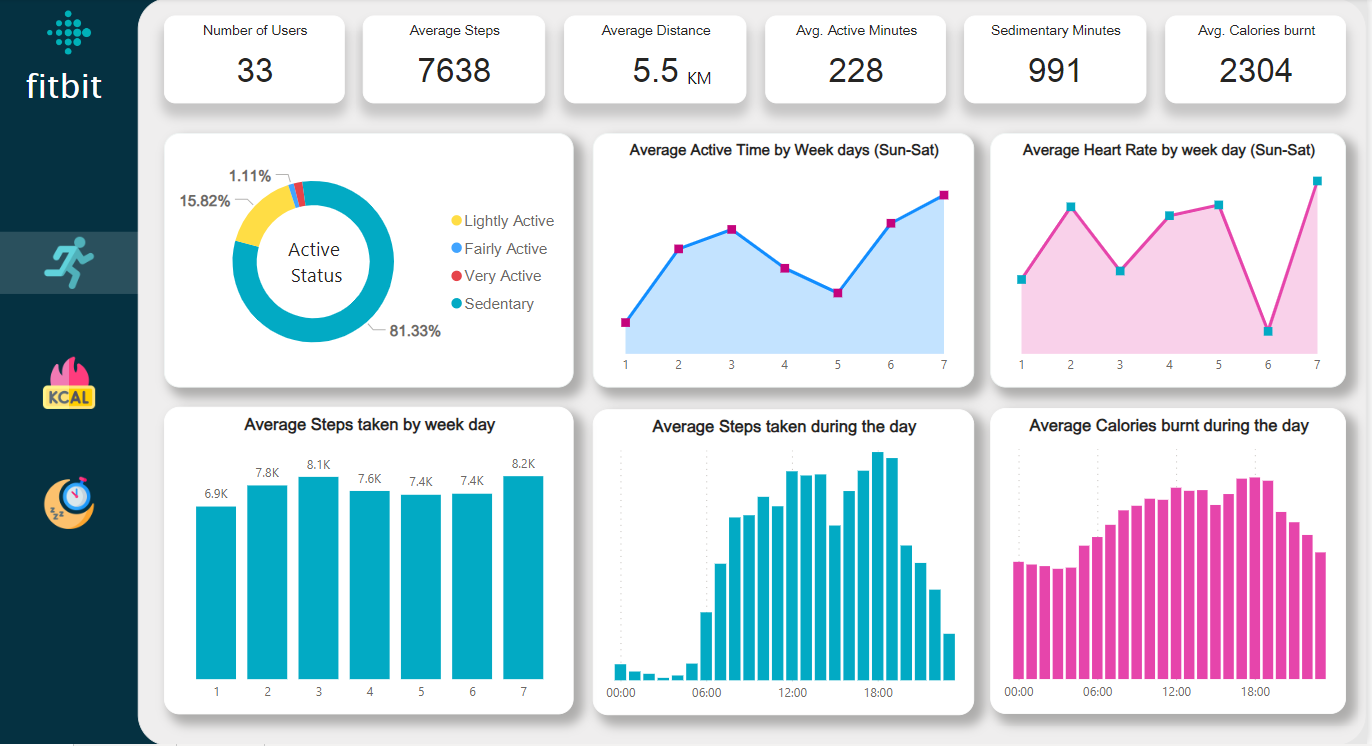

The dashboard page shown, as its layout file describes it:
{"tool":"powerbi","page":{"name":"Activity","canvas":[1320,720],"ordinal":0},"visuals":[{"type":"shape","box":[1150.9,0,169.4,720.3],"z":0},{"type":"shape","box":[133.9,0,1185.5,721.2],"z":1000},{"type":"shape","title":"Avg Calories burned","box":[1125.3,18.6,174.9,87.4],"z":2000},{"type":"shape","title":"Avg Sedimentary mins","box":[934.7,17.2,174.9,87.4],"z":3000},{"type":"shape","title":"Avg. Distance","box":[544.7,15.8,174.9,87.4],"z":4000},{"type":"shape","title":"Avg Active Mins","box":[738.3,17.2,174.9,87.4],"z":5000},{"type":"shape","title":"Avg. Steps","box":[351.2,14.3,174.9,87.4],"z":6000},{"type":"card","title":"Average Steps","fields":{"Values":["Avg(dailyActivity_merged1.TotalSteps)"]},"box":[404,33.8,121.8,67.5],"z":7000},{"type":"card","title":"Average Distance","fields":{"Values":["Avg(dailyActivity_merged1.TotalDistance)"]},"box":[582.5,33.8,127.8,67.5],"z":8000},{"type":"card","title":"Avg. Active Minutes","fields":{"Values":["Avg(dailyActivity_merged1.Total Active Minutes)"]},"box":[798.4,43.4,103.7,48.2],"z":9000},{"type":"card","title":"Sedimentary Minutes","fields":{"Values":["Avg(dailyActivity_merged1.SedentaryMinutes)"]},"box":[988.9,43.4,102.5,48.2],"z":10000},{"type":"image","box":[0,7.8,135.3,52],"z":11000},{"type":"textbox","box":[0,57.2,135.3,72.9],"z":12000},{"type":"donutChart","title":"Average Activity (Minutes)","fields":{"Y":["Sum(dailyActivity_merged1.LightlyActiveMinutes)","Sum(dailyActivity_merged1.FairlyActiveMinutes)","Sum(dailyActivity_merged1.VeryActiveMinutes)","Sum(dailyActivity_merged1.SedentaryMinutes)"]},"box":[159.2,129,395.6,246],"z":13000},{"type":"areaChart","title":"Average Active Time by Week days (Sun-Sat)","fields":{"Category":["dailyActivity_merged1.Week Day"],"Y":["Avg(dailyActivity_merged1.Total Active Minutes)"]},"box":[572.4,130.1,368.2,245.9],"z":14000},{"type":"areaChart","title":"Average Heart Rate by week day (Sun-Sat)","fields":{"Category":["heartrate_seconds_merged5.week day"],"Y":["Avg(heartrate_seconds_merged5.Value)"]},"box":[955.7,129.8,344.1,246.7],"z":15000},{"type":"lineStackedColumnComboChart","title":"Average Steps taken during the day","fields":{"Category":["hourlySteps_merged3.Time"],"Y":["Avg(hourlySteps_merged3.StepTotal)"]},"box":[159.2,395.6,565,295.5],"z":16000},{"type":"textbox","box":[659.7,59.1,53.1,42.2],"z":17000},{"type":"textbox","box":[250,224,112.2,89],"z":18000},{"type":"clusteredColumnChart","title":"Average Calories burnt during the day","fields":{"Category":["hourlyCalories_merged__2.Time"],"Y":["Avg(hourlyCalories_merged__2.Calories)"]},"box":[745.3,395.6,555,295.5],"z":19000},{"type":"card","title":"Avg. Calories burnt","fields":{"Values":["Avg(dailyActivity_merged1.Calories)"]},"box":[1184.3,43.4,102.5,48.2],"z":20000},{"type":"image","box":[0,365.9,135.7,60.3],"z":21000},{"type":"image","box":[0,481.4,135.7,60.3],"z":22000},{"type":"image","box":[0,597,135.7,60.3],"z":23000},{"type":"slicer","fields":{"Values":["Date.Date"]},"box":[1.3,135,132.4,135],"z":24000},{"type":"image","box":[370.3,35,47,62.7],"z":25000},{"type":"image","box":[567.7,34.4,47.3,67.4],"z":26000},{"type":"image","box":[764.6,39.8,47,65.1],"z":27000},{"type":"image","box":[940.7,39.8,68.7,51.9],"z":28000},{"type":"image","box":[1150.6,45.8,41,49.4],"z":29000},{"type":"shape","title":"Number of Users","box":[156.8,14.5,174.9,86.8],"z":30000},{"type":"image","box":[185.7,42.2,47,51.9],"z":31000},{"type":"card","title":"Number of Users","fields":{"Values":["Count(dailyActivity_merged1.Id)"]},"box":[220.7,36.2,85.6,67.5],"z":32000}]}

Visuals, with their boxes in screenshot pixels (x1, y1, x2, y2), scaled from the page's 1320x720 canvas onto the 1372x746 screenshot:
shape: x1=1196, y1=0, x2=1371, y2=745
shape: x1=139, y1=0, x2=1371, y2=745
"Avg Calories burned" shape: x1=1170, y1=19, x2=1351, y2=110
"Avg Sedimentary mins" shape: x1=972, y1=18, x2=1153, y2=108
"Avg. Distance" shape: x1=566, y1=16, x2=748, y2=107
"Avg Active Mins" shape: x1=767, y1=18, x2=949, y2=108
"Avg. Steps" shape: x1=365, y1=15, x2=547, y2=105
"Average Steps" card: x1=420, y1=35, x2=547, y2=105
"Average Distance" card: x1=605, y1=35, x2=738, y2=105
"Avg. Active Minutes" card: x1=830, y1=45, x2=938, y2=95
"Sedimentary Minutes" card: x1=1028, y1=45, x2=1134, y2=95
image: x1=0, y1=8, x2=141, y2=62
textbox: x1=0, y1=59, x2=141, y2=135
"Average Activity (Minutes)" donutChart: x1=165, y1=134, x2=577, y2=389
"Average Active Time by Week days (Sun-Sat)" areaChart: x1=595, y1=135, x2=978, y2=390
"Average Heart Rate by week day (Sun-Sat)" areaChart: x1=993, y1=134, x2=1351, y2=390
"Average Steps taken during the day" lineStackedColumnComboChart: x1=165, y1=410, x2=753, y2=716
textbox: x1=686, y1=61, x2=741, y2=105
textbox: x1=260, y1=232, x2=376, y2=324
"Average Calories burnt during the day" clusteredColumnChart: x1=775, y1=410, x2=1352, y2=716
"Avg. Calories burnt" card: x1=1231, y1=45, x2=1337, y2=95
image: x1=0, y1=379, x2=141, y2=442
image: x1=0, y1=499, x2=141, y2=561
image: x1=0, y1=619, x2=141, y2=681
slicer - Date.Date: x1=1, y1=140, x2=139, y2=280
image: x1=385, y1=36, x2=434, y2=101
image: x1=590, y1=36, x2=639, y2=105
image: x1=795, y1=41, x2=844, y2=109
image: x1=978, y1=41, x2=1049, y2=95
image: x1=1196, y1=47, x2=1239, y2=99
"Number of Users" shape: x1=163, y1=15, x2=345, y2=105
image: x1=193, y1=44, x2=242, y2=97
"Number of Users" card: x1=229, y1=38, x2=318, y2=107
